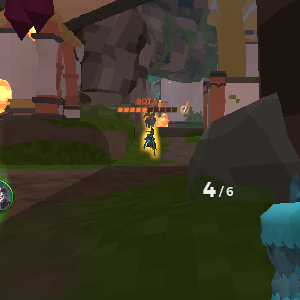model: (144, 124, 162, 159), (146, 106, 161, 121)
